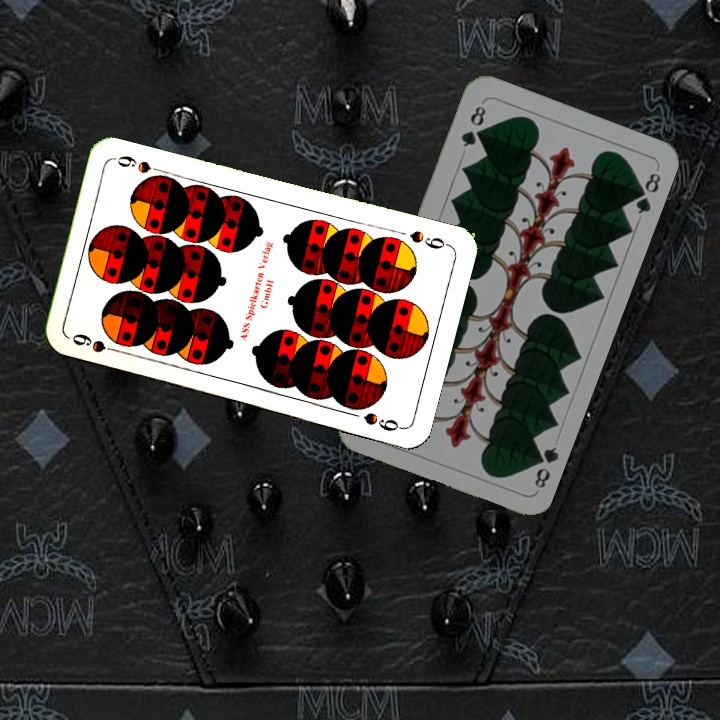G8: (527, 442, 561, 491), (457, 101, 489, 150)
S9: (68, 329, 125, 356), (405, 226, 452, 252)
